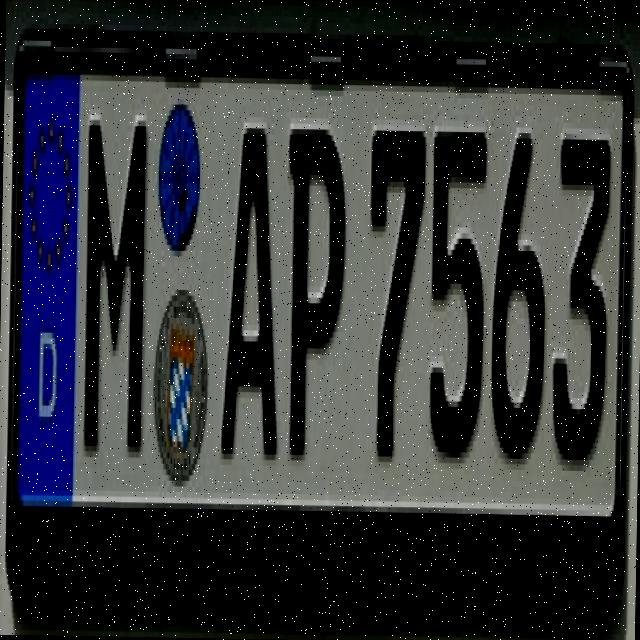Allemagne: (11, 46, 79, 510)
EU: (4, 33, 628, 539)
